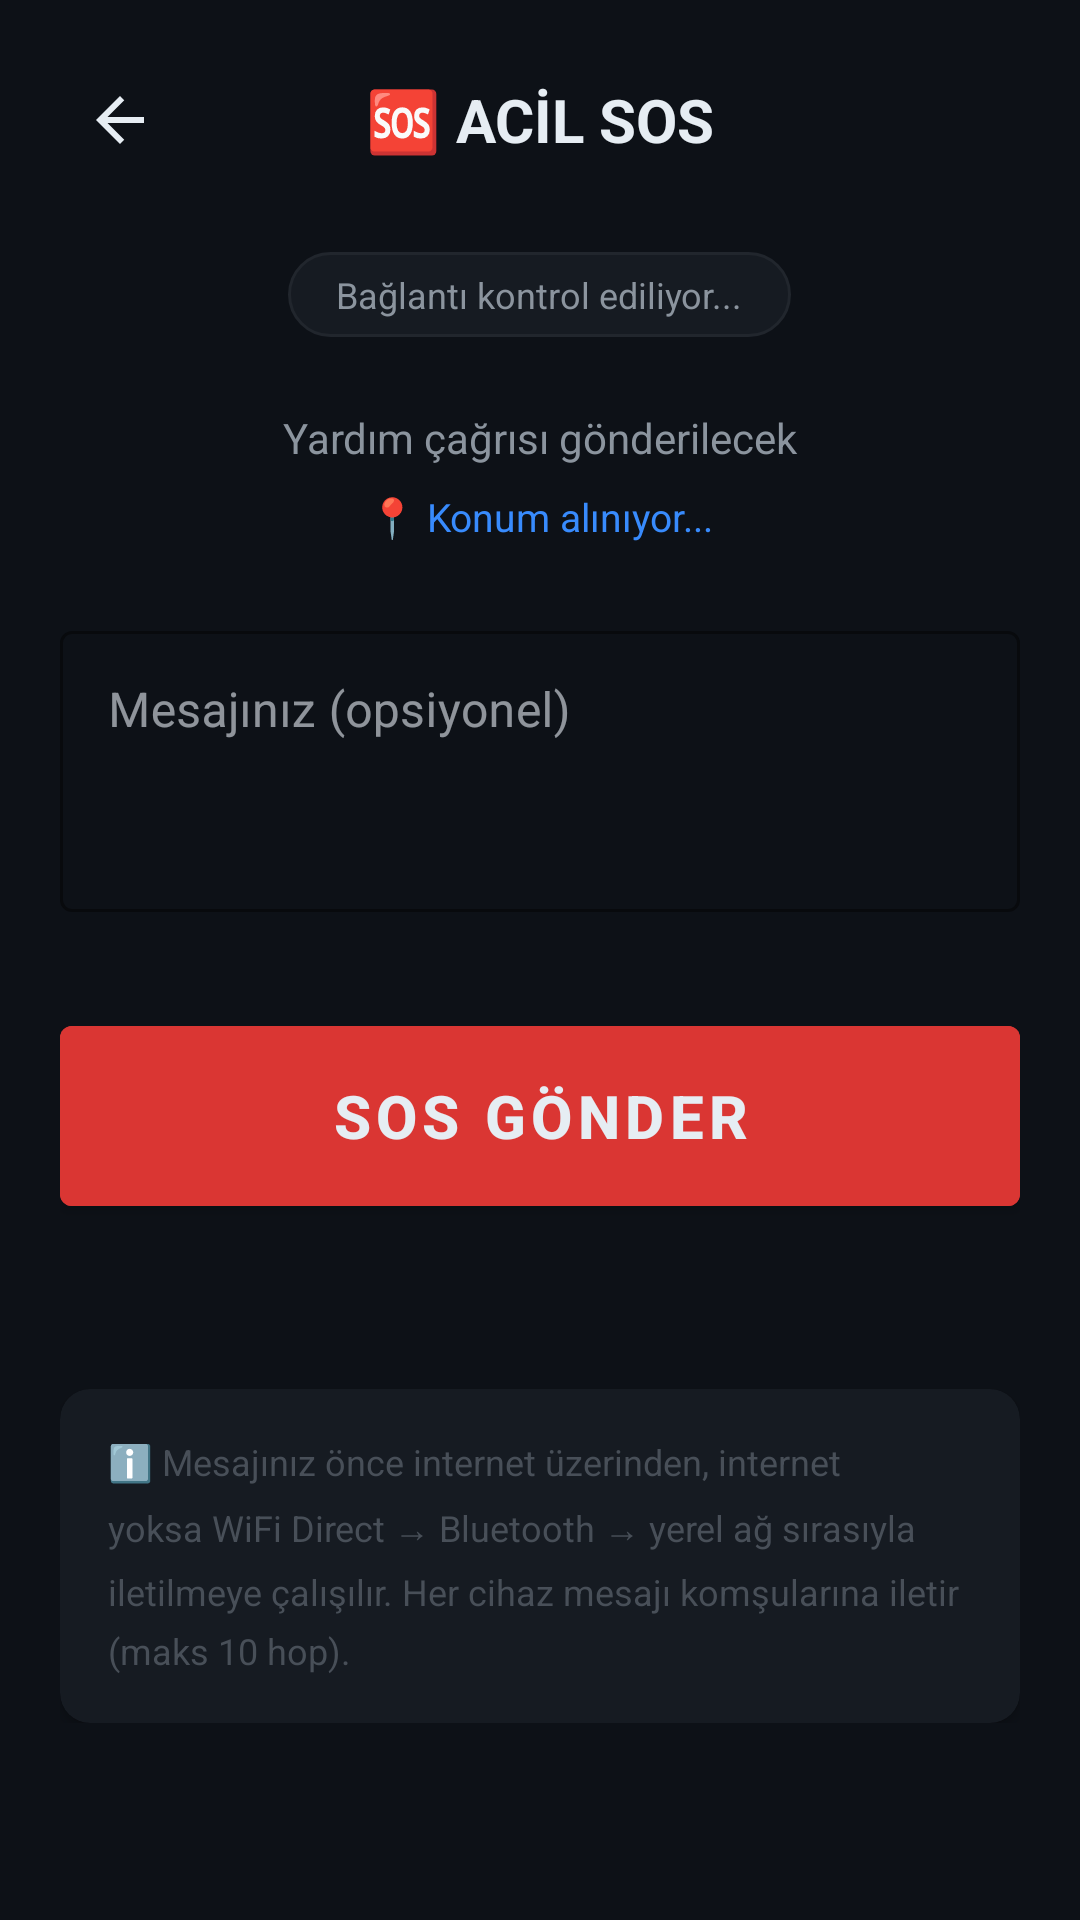

Icons on this 1080×1920 Android screen, each with the point to tap as point (x, y):
arrow back: point (120, 120)
